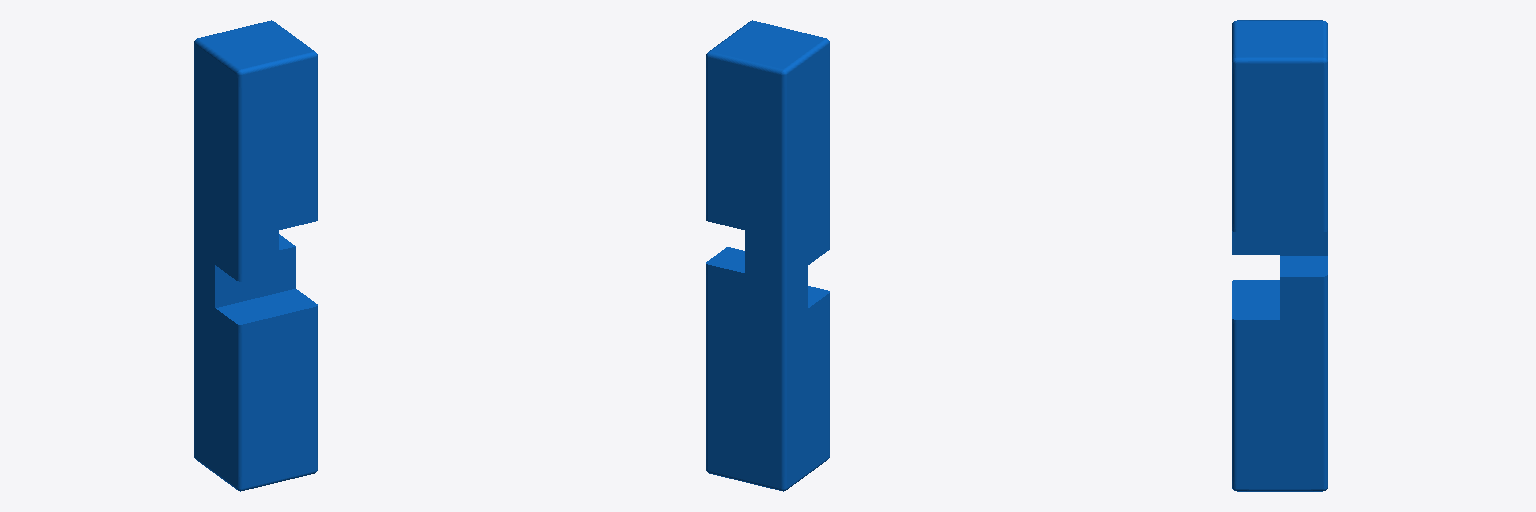
The robot description file, URDF, robot "piece_2":
<robot name="piece_2" version="1.0">
  <link name="piece_2">
    <collision name="geometry_0.001">
      <origin rpy="0.00000 1.57080 0.00000" xyz="-0.57186 0.57924 0.07445"/>
      <geometry>
        <mesh filename="../meshes/obj/geometry_0.001.obj" scale="1.00000 1.00000 1.00000"/>
      </geometry>
    </collision>
    <collision name="geometry_1.001">
      <origin rpy="0.00000 1.57080 0.00000" xyz="-0.56295 0.67234 0.45286"/>
      <geometry>
        <mesh filename="../meshes/obj/geometry_1.001.obj" scale="1.00000 1.00000 1.00000"/>
      </geometry>
    </collision>
    <collision name="geometry_2.001">
      <origin rpy="0.00000 1.57080 0.00000" xyz="-0.57087 0.58246 0.94258"/>
      <geometry>
        <mesh filename="../meshes/obj/geometry_2.001.obj" scale="1.00000 1.00000 1.00000"/>
      </geometry>
    </collision>
    <collision name="geometry_3.001">
      <origin rpy="0.00000 1.57080 0.00000" xyz="-0.66328 0.56948 0.54968"/>
      <geometry>
        <mesh filename="../meshes/obj/geometry_3.obj" scale="1.00000 1.00000 1.00000"/>
      </geometry>
    </collision>
    <inertial>
      <inertia ixx="0.04472" ixy="-0.00000" ixz="0.00001" iyy="0.04472" iyz="0.00001" izz="0.00322"/>
      <origin rpy="0.00000 0.00000 0.00000" xyz="-0.57585 0.58556 0.50002"/>
      <mass value="0.50000"/>
    </inertial>
    <visual name="lubanlock2.001">
      <material name="turnarrow_skyblue"/>
      <origin rpy="-0.00000 1.57080 0.00000" xyz="-0.57468 0.58439 0.49970"/>
      <geometry>
        <mesh filename="../meshes/obj/lubanlock2.001.obj" scale="0.01000 0.01000 0.01000"/>
      </geometry>
    </visual>
  </link>
  <material name="turnarrow_skyblue">
    <color rgba="0.09020 0.45490 0.81176 1.00000"/>
  </material>
</robot>

--- What the picture shows (computed from the rendered views, not written in the file) ---
3 views of the same robot in one strip: view 1: azimuth 30°, elevation 25°; view 2: azimuth 150°, elevation 25°; view 3: azimuth 270°, elevation 25° (orthographic).
Model piece_2 with 1 links and 0 joints (none), rooted at piece_2, posed all joints at 0.
Links seen in each view (by area): view 1: piece_2; view 2: piece_2; view 3: piece_2.
Boxes of the visible links, x1,y1,x2,y2 form: piece_2: (194, 20, 317, 491); piece_2: (706, 20, 829, 491); piece_2: (1232, 20, 1327, 491).
Bounding box of the posed robot: 0.2 × 0.2 × 1 m (x, y, z).
Meshes: 1 distinct files referenced, 1 mesh visuals loaded (1 OBJ).